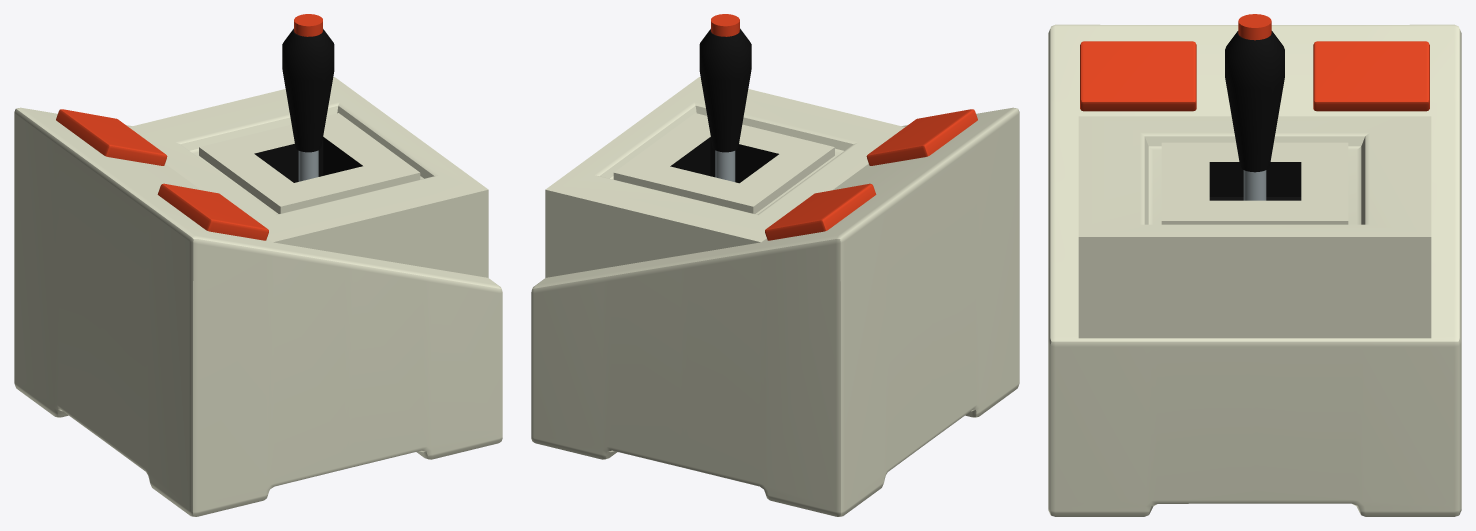
Rendered from Joystick.glb.
The picture shows the model from 3 angles, left to right: view 1: azimuth 30°, elevation 25°; view 2: azimuth 150°, elevation 25°; view 3: azimuth 270°, elevation 25°; orthographic projection. The views are drawn at different scales.
Parts seen in each view (by area): view 1: joystick; view 2: joystick; view 3: joystick.
Boxes of the visible parts, <box> form: joystick: <box>14,14,502,516</box>; joystick: <box>531,14,1019,516</box>; joystick: <box>1048,14,1461,516</box>.
Size of the model in its own units: 0.4237 by 0.4968 by 0.4237.
